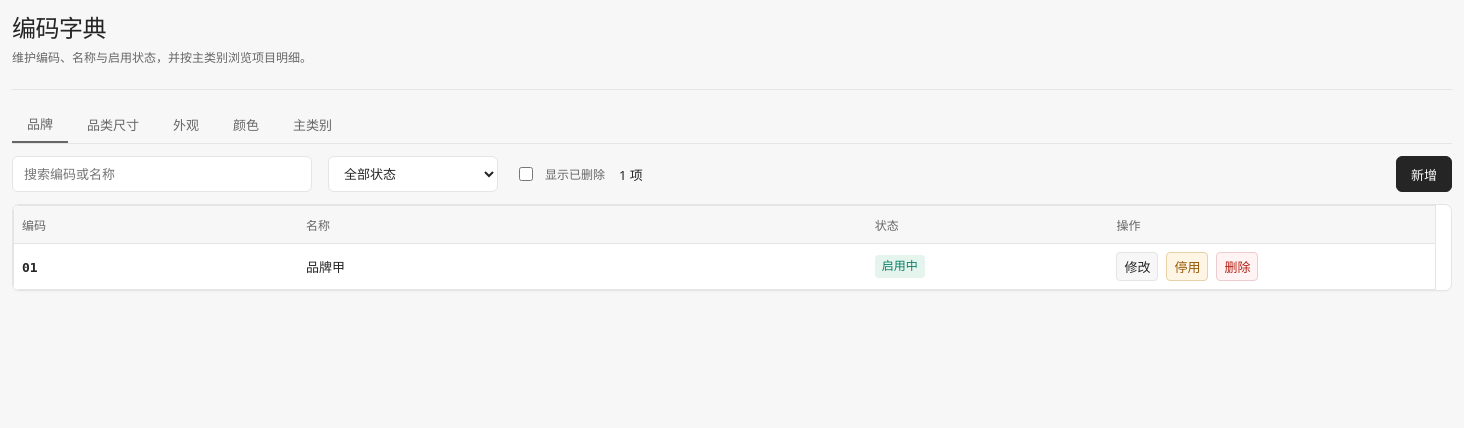
Test: keeps dictionary editing on the approved branch with a locked code and equal action roles
What coordinates should you click on to do the following:
click the button with aria-label "修改 品牌甲"
I would click on:
 (1137, 266)
Its box is [1116,252,1158,281].
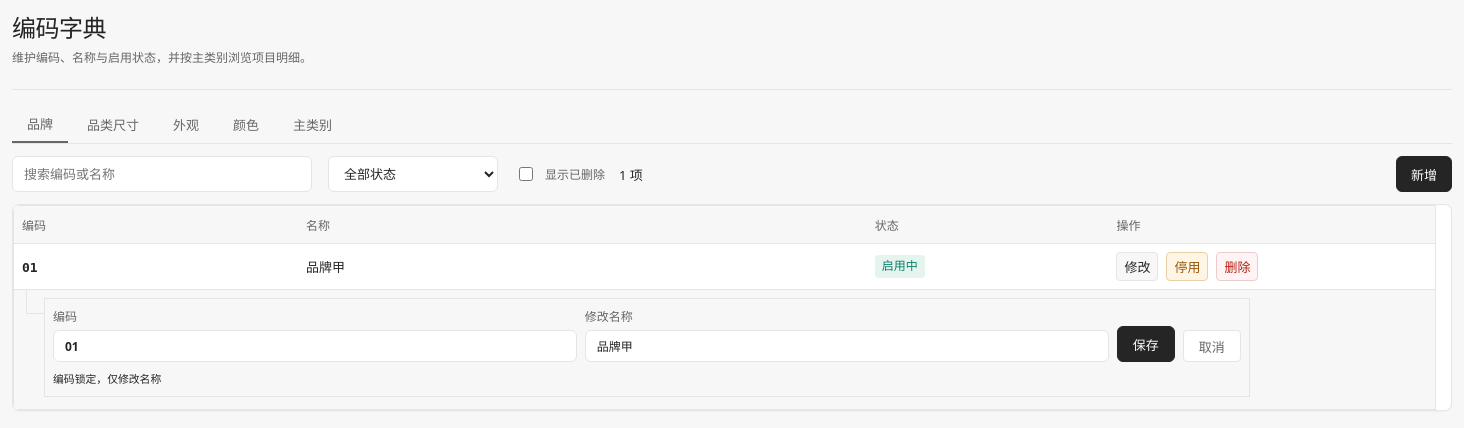
Check: the form with class "dm-editor" is shown, box [44,298,1250,397]
Check: the field labelled "编码" is disabled, box [53,330,577,362]
Check: the button "保存" is shown, box [1117,326,1175,362]
